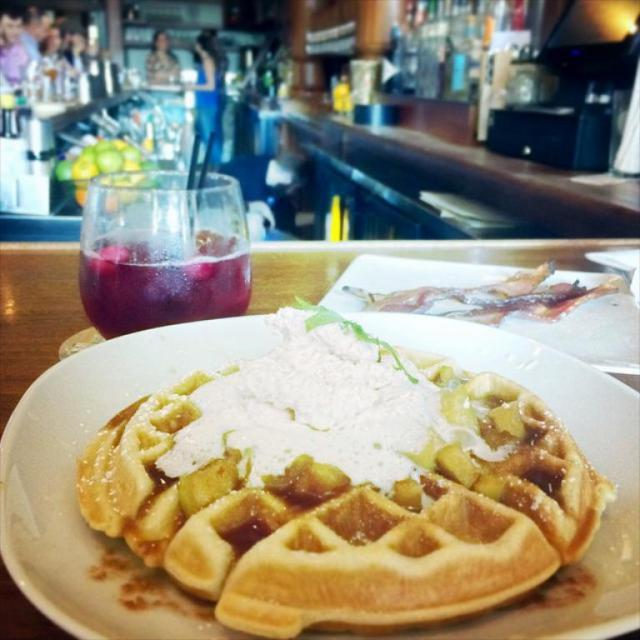Waffle: (74, 338, 613, 639)
